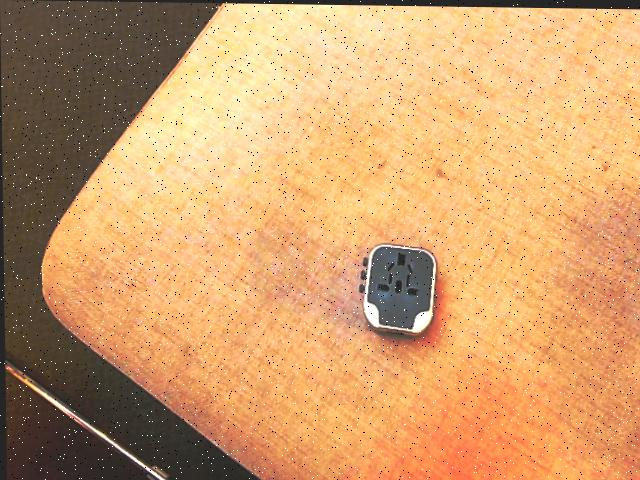adapter: (357, 241, 436, 335)
